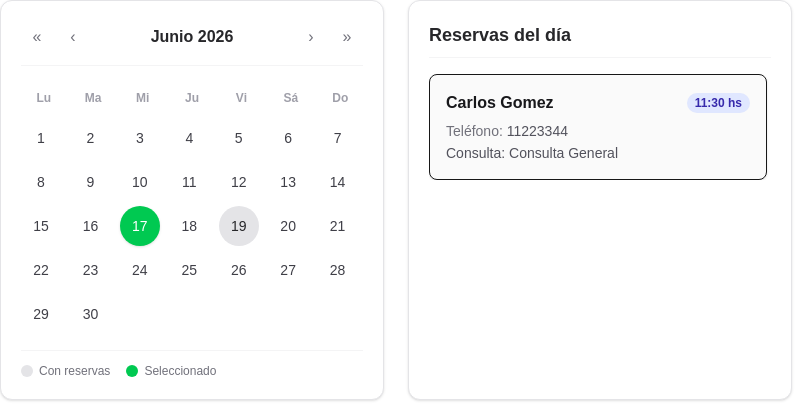
Test case: CalendarioAdmin - Criterios del Panel de Reservas › Escenario 3 (Panel de citas): Cambio rápido de día actualiza el panel lateral instantáneamente
Check: the text "Carlos Gomez" is shown, box x1=446 y1=91 x2=554 y2=115
Check: the text "Lucas Martinez" is not shown
Click the button "18".
click(189, 226)  # box x1=169 y1=206 x2=209 y2=246
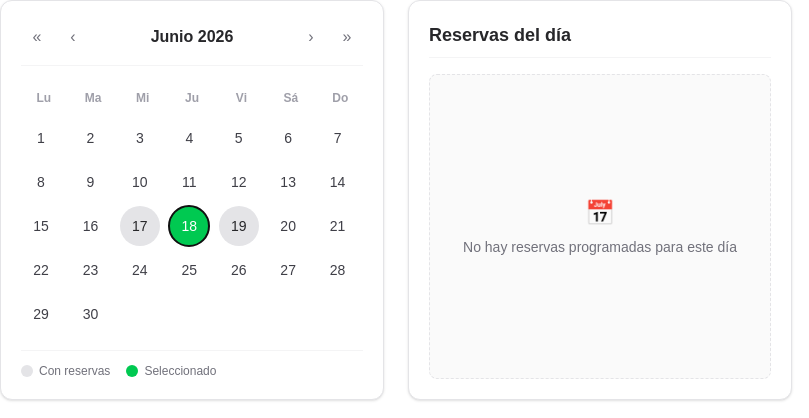
Check: the text "No hay reservas programadas para este día" is shown, box x1=463 y1=236 x2=737 y2=256
Check: the text "Carlos Gomez" is gone
Click the button "19".
click(239, 226)  # box x1=219 y1=206 x2=259 y2=246
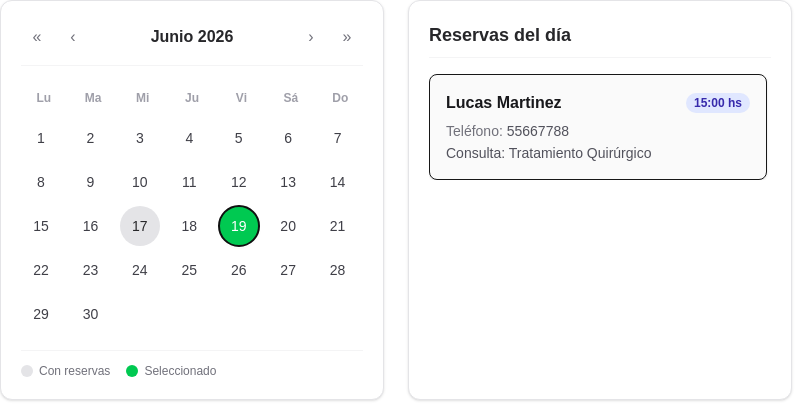
Check: the text "Carlos Gomez" is not shown
Check: the text "Lucas Martinez" is shown, box x1=446 y1=91 x2=562 y2=115
Click the button "17".
click(140, 226)  # box x1=120 y1=206 x2=160 y2=246
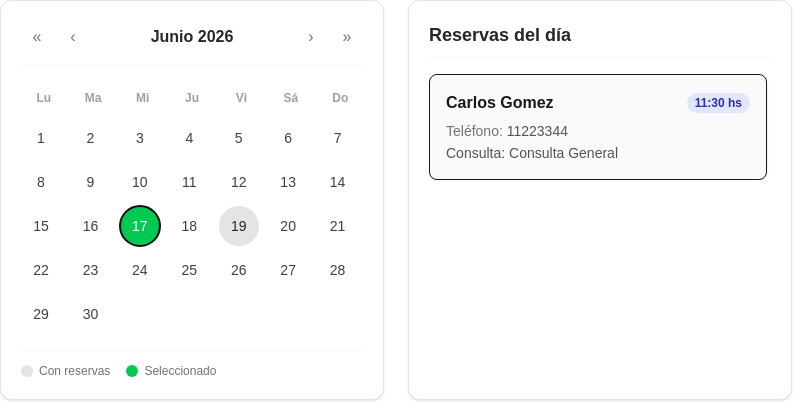
Check: the text "Carlos Gomez" is shown, box x1=446 y1=91 x2=554 y2=115
Check: the text "Lucas Martinez" is gone
